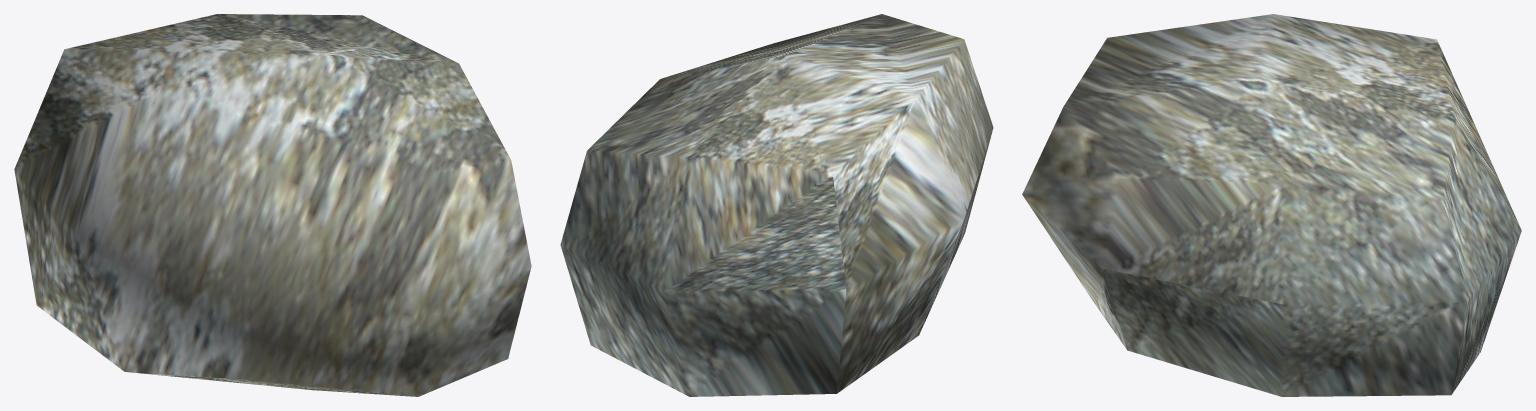
Rendered from round_stone.fbx.
3 renders of one model, left to right at view 1: azimuth 30°, elevation 25°; view 2: azimuth 150°, elevation 25°; view 3: azimuth 270°, elevation 25°, orthographic. The views are drawn at different scales.
Visible parts, largest first — view 1: Cube; view 2: Cube; view 3: Cube.
Boxes of the visible parts, x1,y1,x2,y2 form: Cube: (14,14,531,396); Cube: (560,14,993,396); Cube: (1022,14,1521,396).
Bounding box in the file's own units: 36.28 × 28.17 × 43.89.
